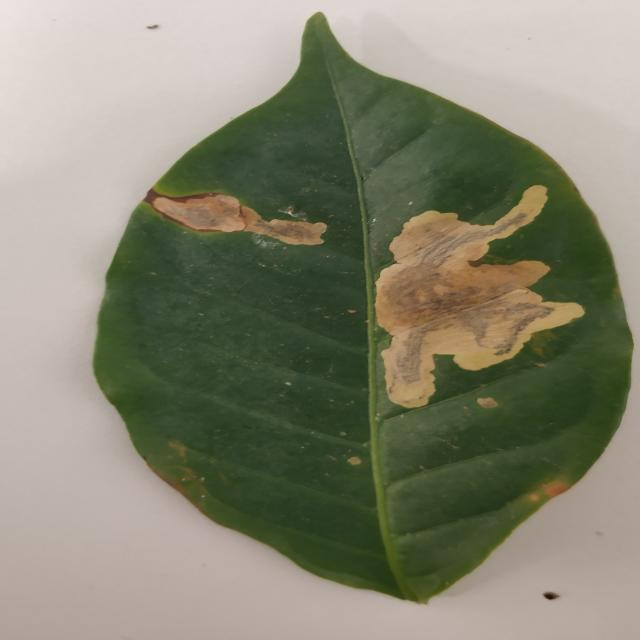Plaga-Minador: (92, 13, 634, 608)
